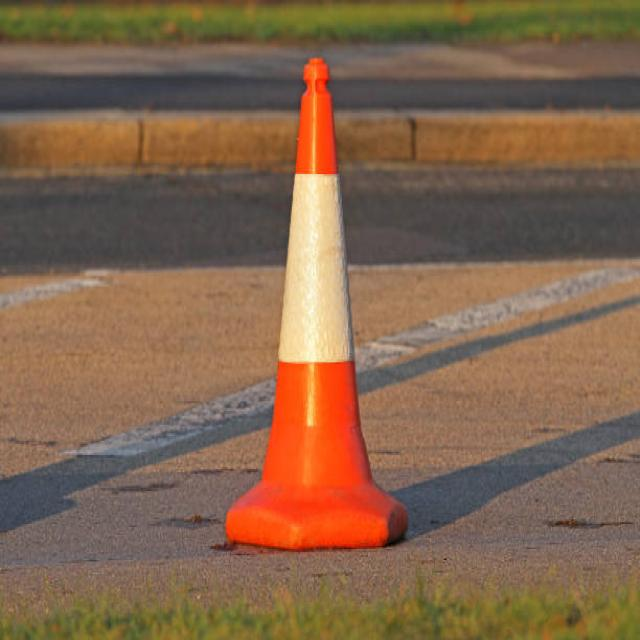Traffic Cone: (207, 31, 423, 565)
